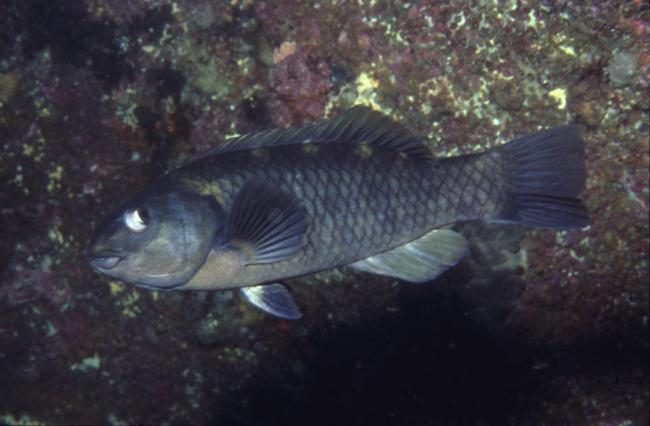fish: (88, 105, 590, 323)
